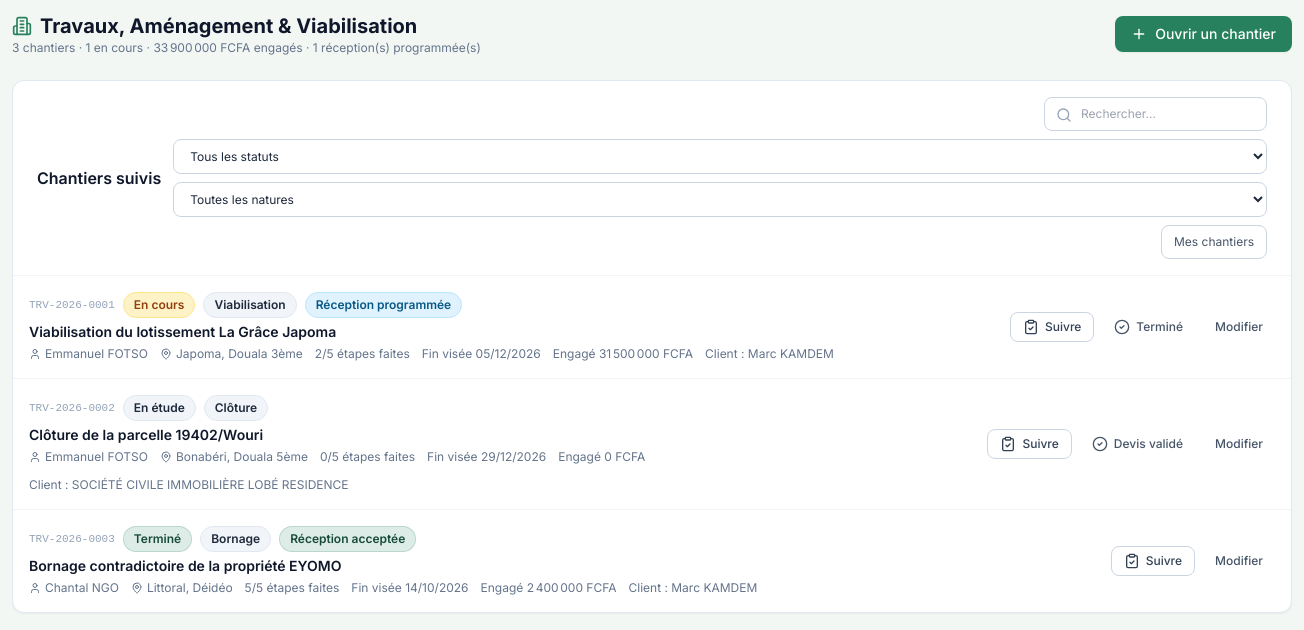
Scenario: ProjectsPage en mode démo › restreint l'affichage aux chantiers du collaborateur connecté
Click the button "Mes chantiers" at (1214, 242), box [1161,225,1267,259]
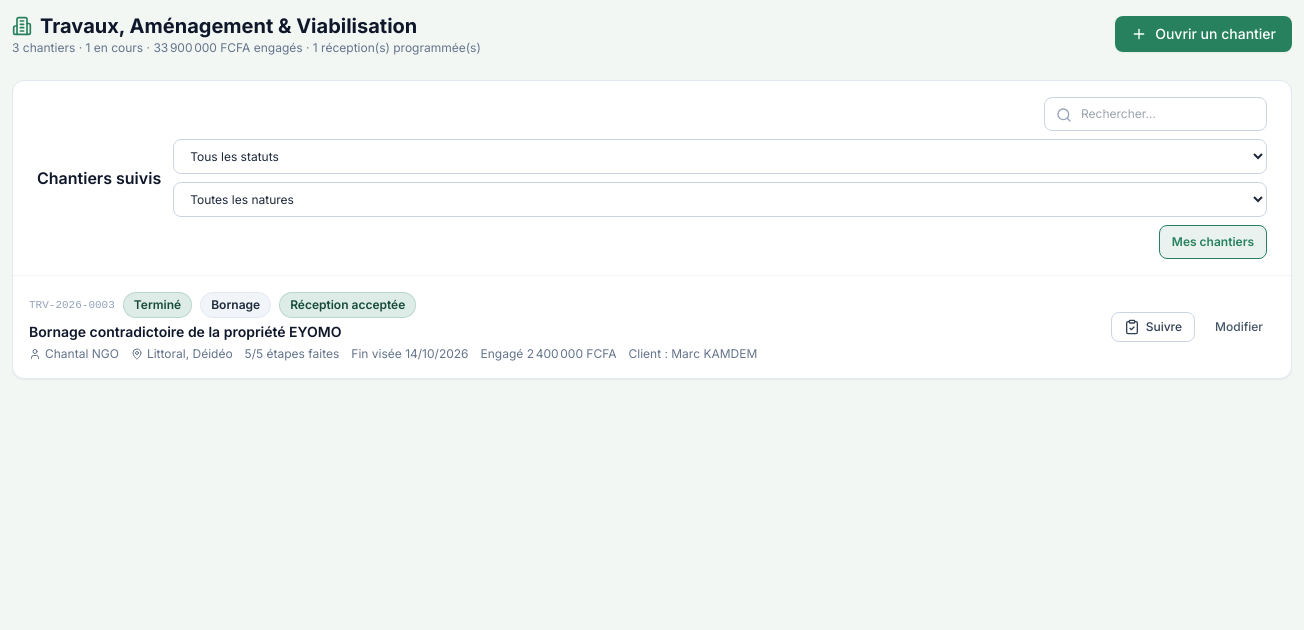
expect the text "TRV-2026-0003" is shown: met, box [29,297,115,313]
expect the text "TRV-2026-0001" is gone: met
